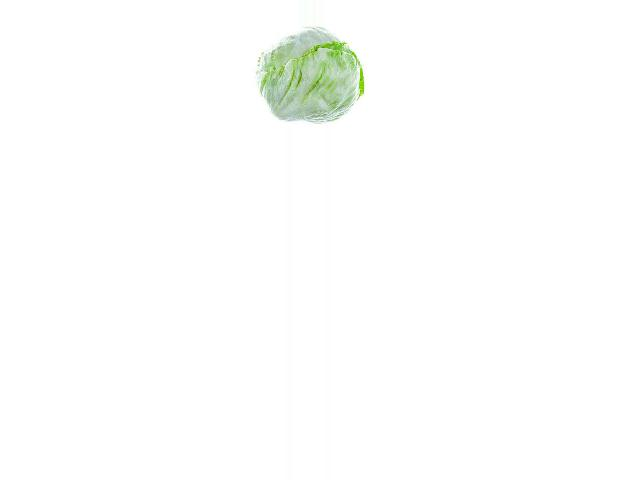lettuce: (257, 28, 362, 118)
